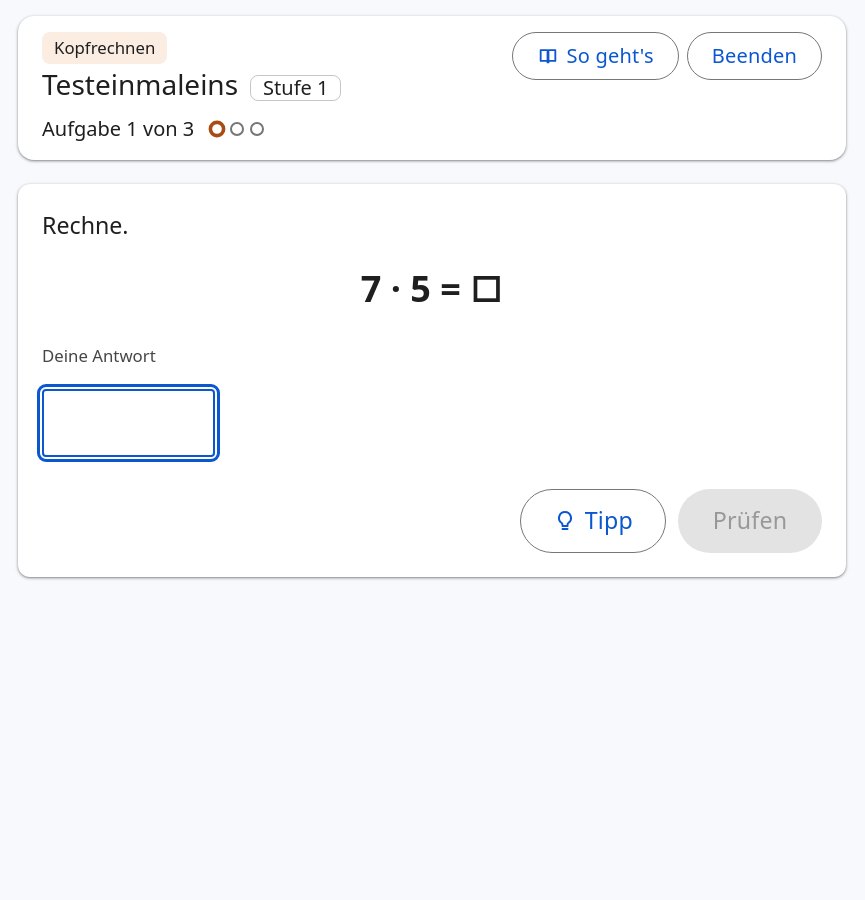
Test: PracticePage: consent, round end, breaks › asks for storage consent inline after the first finished item
Expected: the button "Prüfen" is shown, top-left (678, 489), bottom-right (822, 553)
Expected: the text "Soll ich mir deinen Fortschritt auf diesem Gerät merken?" is not shown
Step 1. Type "35" into the field labelled "Deine Antwort" → (129, 423), box top-left (42, 389), bottom-right (215, 457)
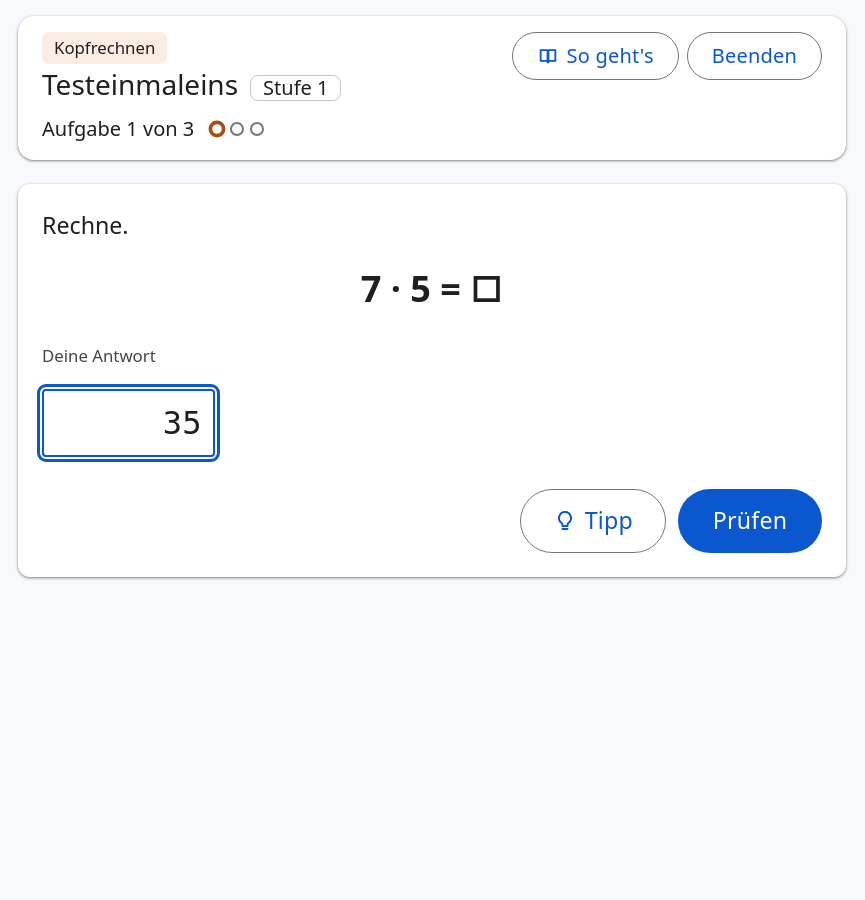
Step 2. Click the button "Prüfen" → click(750, 521), box top-left (678, 489), bottom-right (822, 553)
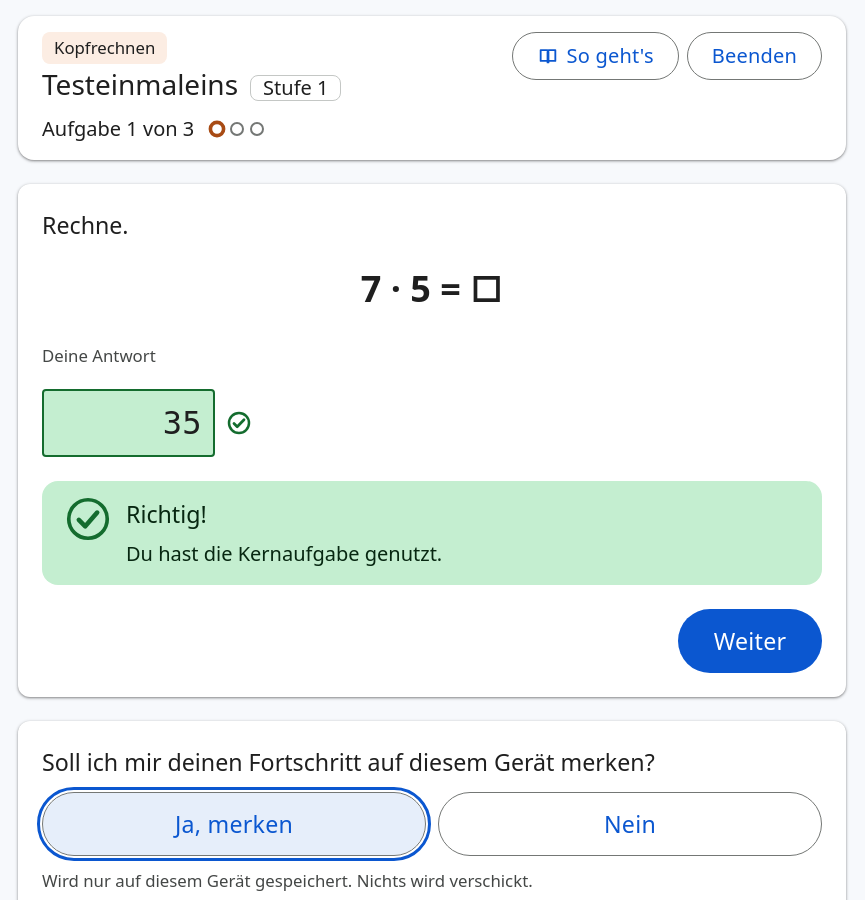
Result: the text "Soll ich mir deinen Fortschritt auf diesem Gerät merken?" is shown at top-left (42, 746), bottom-right (655, 778)
Result: the text "Wird nur auf diesem Gerät gespeichert. Nichts wird verschickt." is shown at top-left (42, 868), bottom-right (618, 893)
Step 3. Click the button "Ja, merken" → click(234, 824), box top-left (42, 792), bottom-right (426, 856)
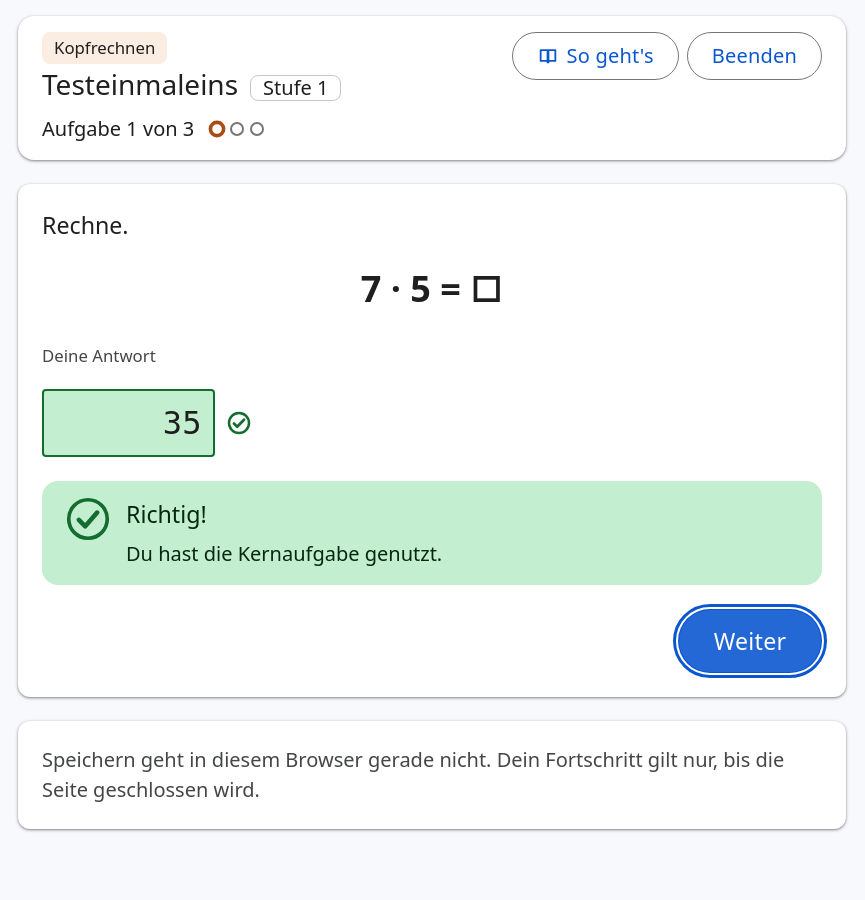
Result: the button "Ja, merken" is gone
